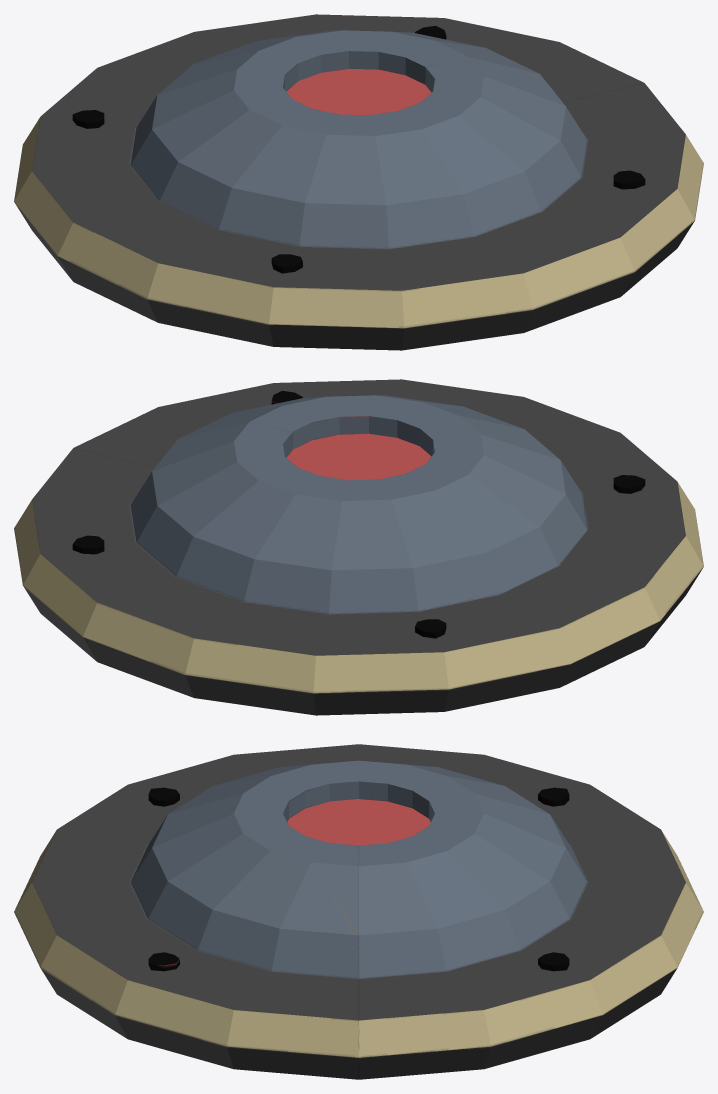
Rendered from Mine.fbx.
3 views of the same model, one above another, from view 1: azimuth 30°, elevation 25°; view 2: azimuth 150°, elevation 25°; view 3: azimuth 270°, elevation 25° (orthographic).
Parts seen in each view (by area): view 1: Mine; view 2: Mine; view 3: Mine.
Boxes of the visible parts, x1,y1,x2,y2 form: Mine: [14, 14, 703, 350]; Mine: [14, 379, 703, 715]; Mine: [14, 744, 703, 1079].
Bounding box in the file's own units: 19.75 × 4.05 × 19.75.
